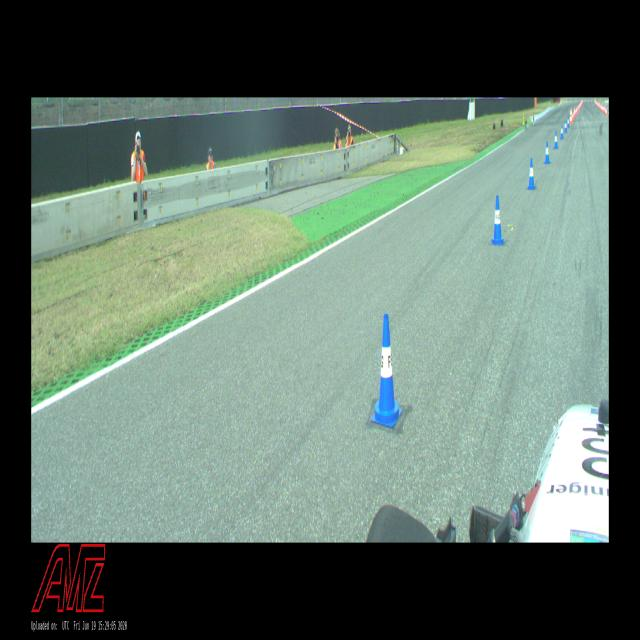blue_cone: (371, 314, 402, 428), (491, 195, 504, 245), (528, 159, 535, 189), (544, 142, 550, 163), (554, 131, 558, 149), (560, 125, 564, 139), (564, 120, 567, 132), (568, 118, 570, 127)
large_orange_cone: (569, 108, 573, 124)
